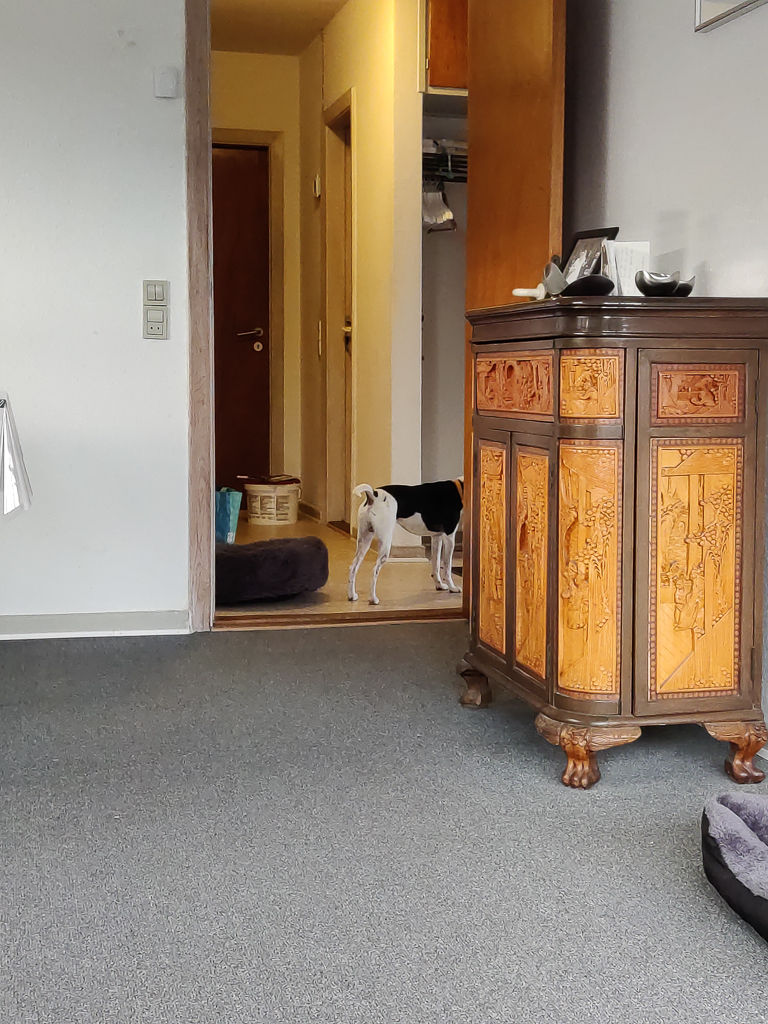Dog: (338, 460, 470, 609)
